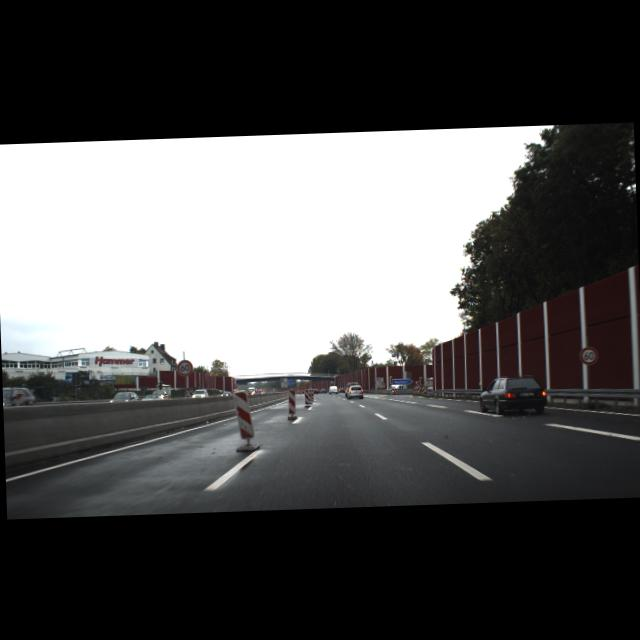prohibitory: (578, 344, 598, 364), (176, 358, 193, 376)
